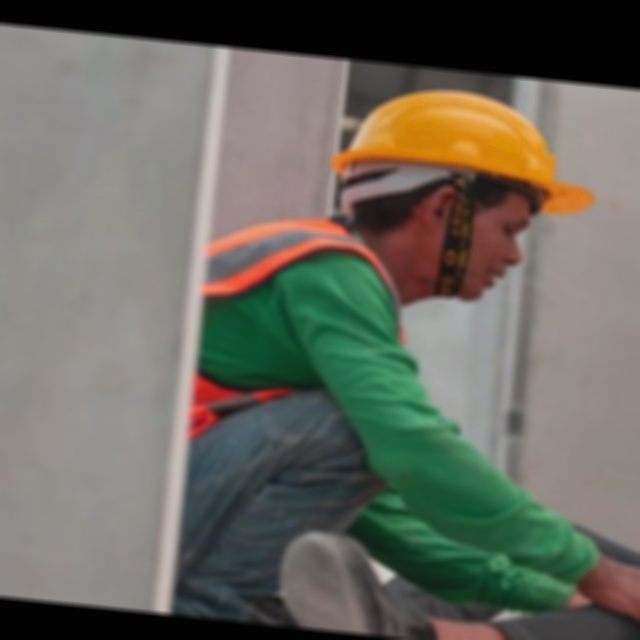Con_Casco: (322, 83, 600, 312)
